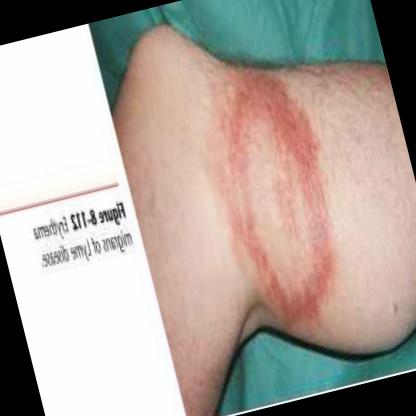Ringworm: (190, 56, 365, 342)
